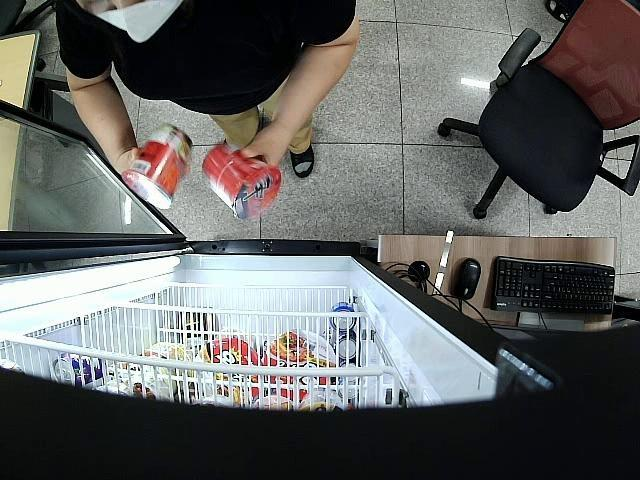02_shinRamen_S: (202, 144, 282, 222), (120, 124, 192, 209)
